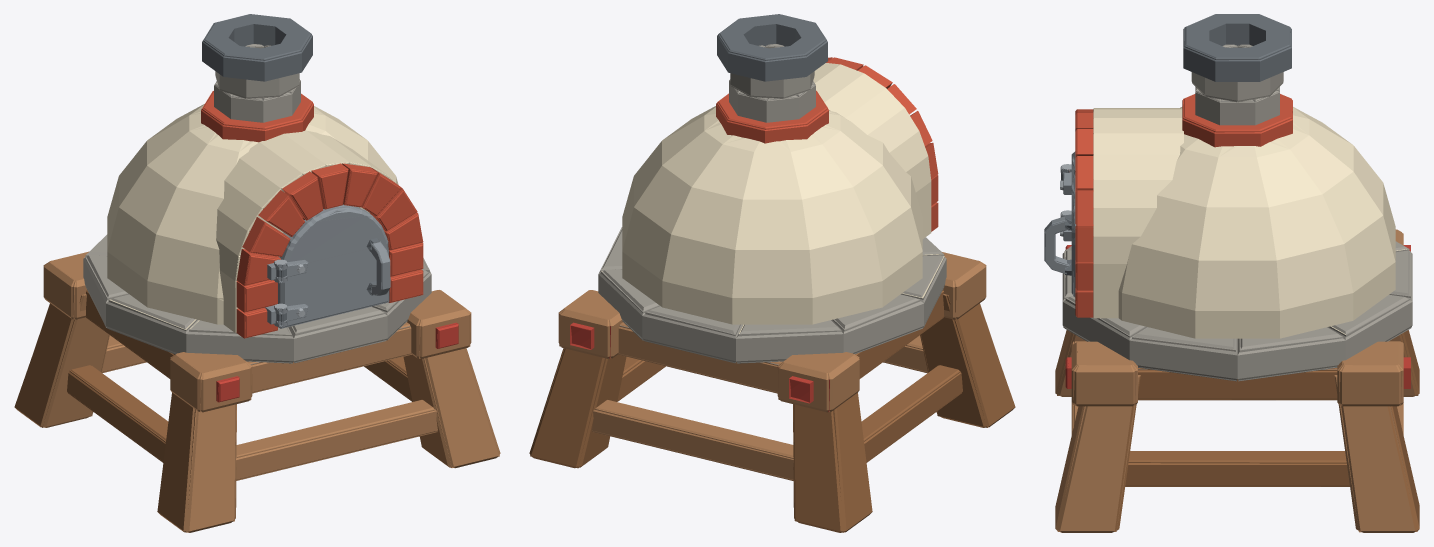
Rendered from FMS_Workshop_STA_09.fbx.
The picture shows the model from 3 angles, left to right: view 1: azimuth 30°, elevation 25°; view 2: azimuth 150°, elevation 25°; view 3: azimuth 270°, elevation 25°; orthographic projection. The views are drawn at different scales.
Visible parts, largest first — view 1: FMS_Workshop_STA_09_Body, FMS_Workshop_STA_09_Body_Low1, FMS_Workshop_STA_09_Door, FMS_Workshop_STA_09_Door_Low1; view 2: FMS_Workshop_STA_09_Body, FMS_Workshop_STA_09_Body_Low1; view 3: FMS_Workshop_STA_09_Body, FMS_Workshop_STA_09_Body_Low1, FMS_Workshop_STA_09_Door, FMS_Workshop_STA_09_Door_Low1.
Part boxes in pixels (bbox=[...]): FMS_Workshop_STA_09_Body: bbox=[14, 14, 500, 532]; FMS_Workshop_STA_09_Body_Low1: bbox=[37, 14, 499, 532]; FMS_Workshop_STA_09_Door: bbox=[274, 204, 389, 328]; FMS_Workshop_STA_09_Door_Low1: bbox=[273, 205, 390, 328]; FMS_Workshop_STA_09_Body: bbox=[529, 14, 1015, 532]; FMS_Workshop_STA_09_Body_Low1: bbox=[530, 18, 992, 532]; FMS_Workshop_STA_09_Body: bbox=[1055, 14, 1419, 532]; FMS_Workshop_STA_09_Body_Low1: bbox=[1057, 14, 1418, 532]; FMS_Workshop_STA_09_Door: bbox=[1044, 152, 1076, 297]; FMS_Workshop_STA_09_Door_Low1: bbox=[1044, 151, 1075, 296].
Bounding box in the file's own units: 1.51 × 1.8 × 1.47.
